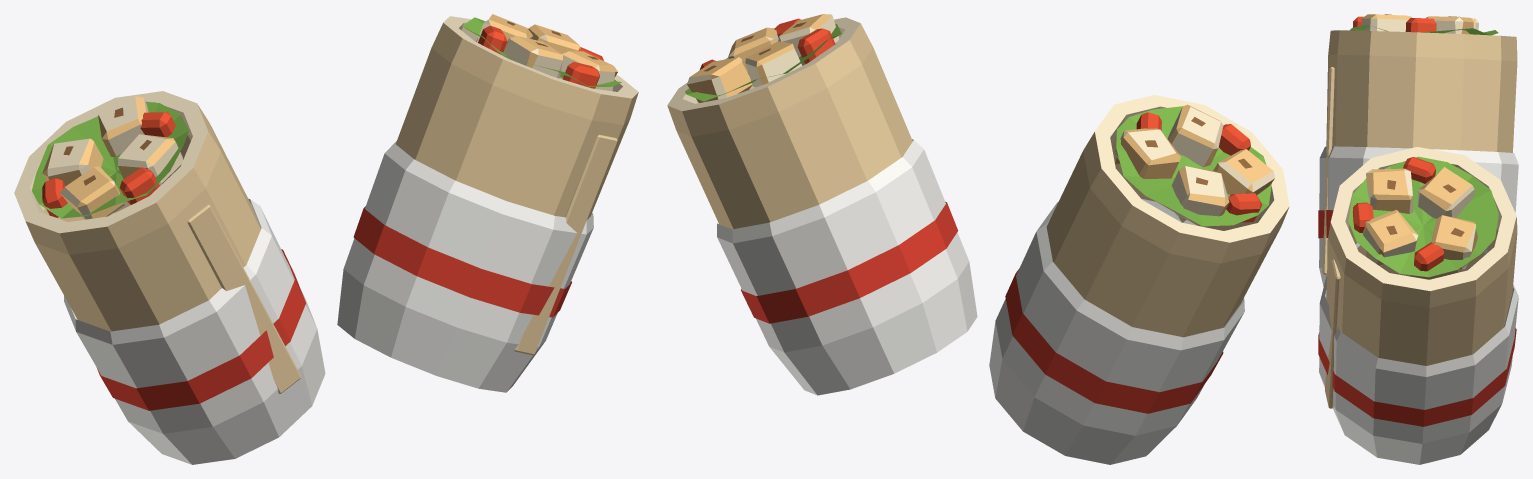
The model's file is tikka-sandwich.glb.
3 views of the same model, side by side, from view 1: azimuth 30°, elevation 25°; view 2: azimuth 150°, elevation 25°; view 3: azimuth 270°, elevation 25° (orthographic). The views are drawn at different scales.
Parts seen in each view (by area): view 1: tikka-sandwich; view 2: tikka-sandwich; view 3: tikka-sandwich.
Part boxes in pixels (box(x1,y1,x2,y2)): tikka-sandwich: box(14, 14, 638, 464); tikka-sandwich: box(667, 14, 1289, 464); tikka-sandwich: box(1318, 14, 1518, 464).
Bounding box in the file's own units: 0.3701 × 0.206 × 0.1225.
